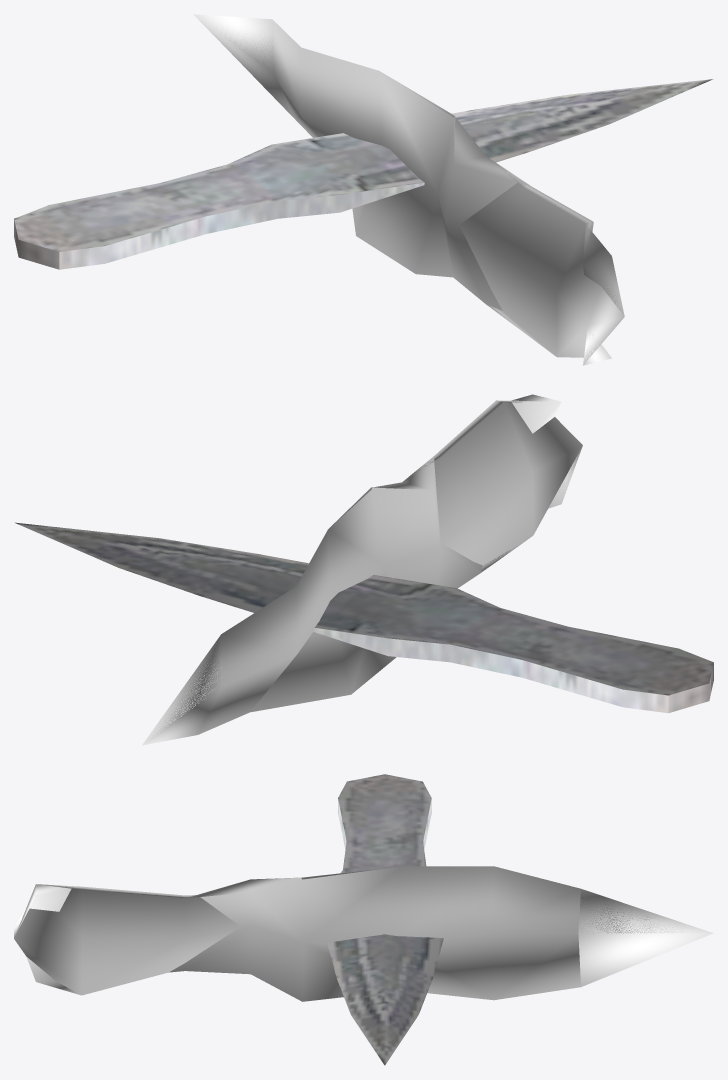
Rendered from bullseye_knife.glb.
3 views of the same model, one above another, from view 1: azimuth 30°, elevation 25°; view 2: azimuth 150°, elevation 25°; view 3: azimuth 270°, elevation 25° (orthographic). The views are drawn at different scales.
Visible parts, largest first — view 1: weapons/bullseye_knife_1, weapons/bullseye_knife_0; view 2: weapons/bullseye_knife_1, weapons/bullseye_knife_0; view 3: weapons/bullseye_knife_1, weapons/bullseye_knife_0.
Boxes of the visible parts, box(x1,y1,x2,y2) form: weapons/bullseye_knife_1: box(193, 14, 624, 365); weapons/bullseye_knife_0: box(14, 79, 713, 269); weapons/bullseye_knife_1: box(142, 394, 582, 745); weapons/bullseye_knife_0: box(15, 522, 713, 713); weapons/bullseye_knife_1: box(14, 866, 713, 1001); weapons/bullseye_knife_0: box(327, 774, 443, 1065).
Size of the model in its own units: 1.92 by 0.4212 by 2.
2 materials, 1 textured.
